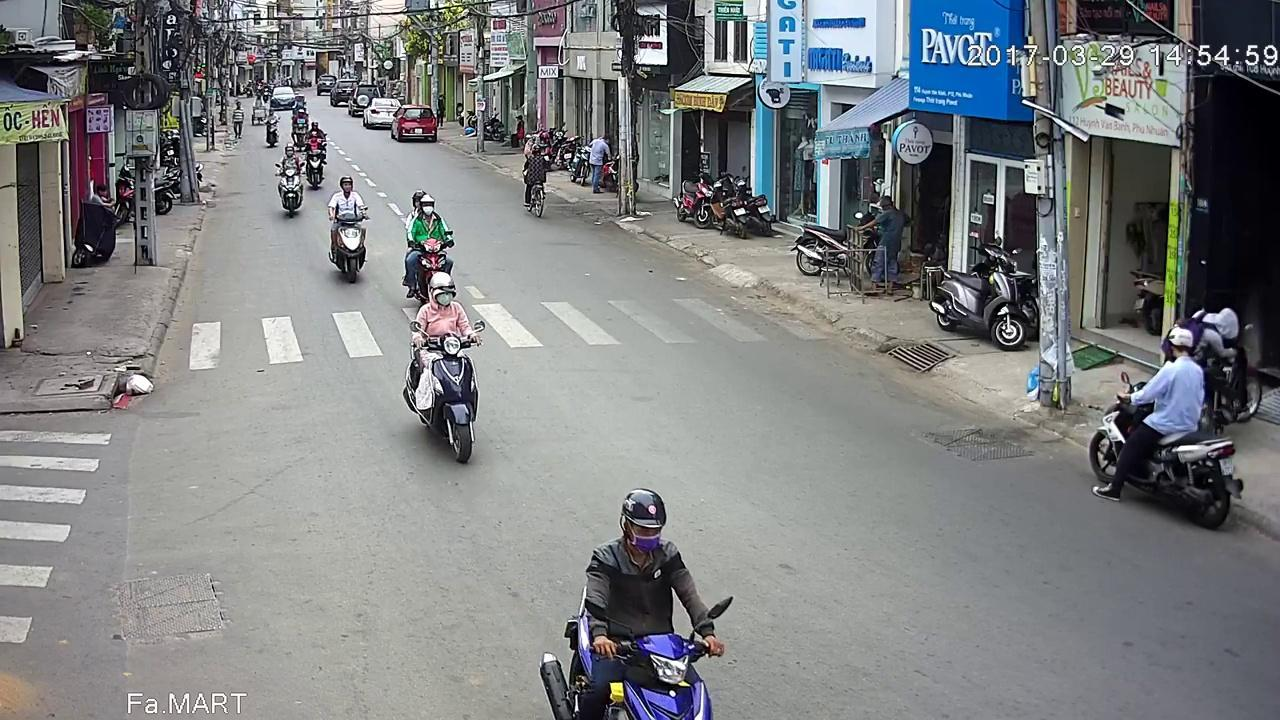xe dap: (524, 143, 550, 219)
xe hoi: (388, 103, 437, 142)
xe may: (539, 422, 734, 685), (1080, 325, 1236, 530), (401, 272, 483, 466), (403, 187, 454, 298), (322, 168, 365, 274), (273, 144, 304, 221), (307, 136, 333, 194)
